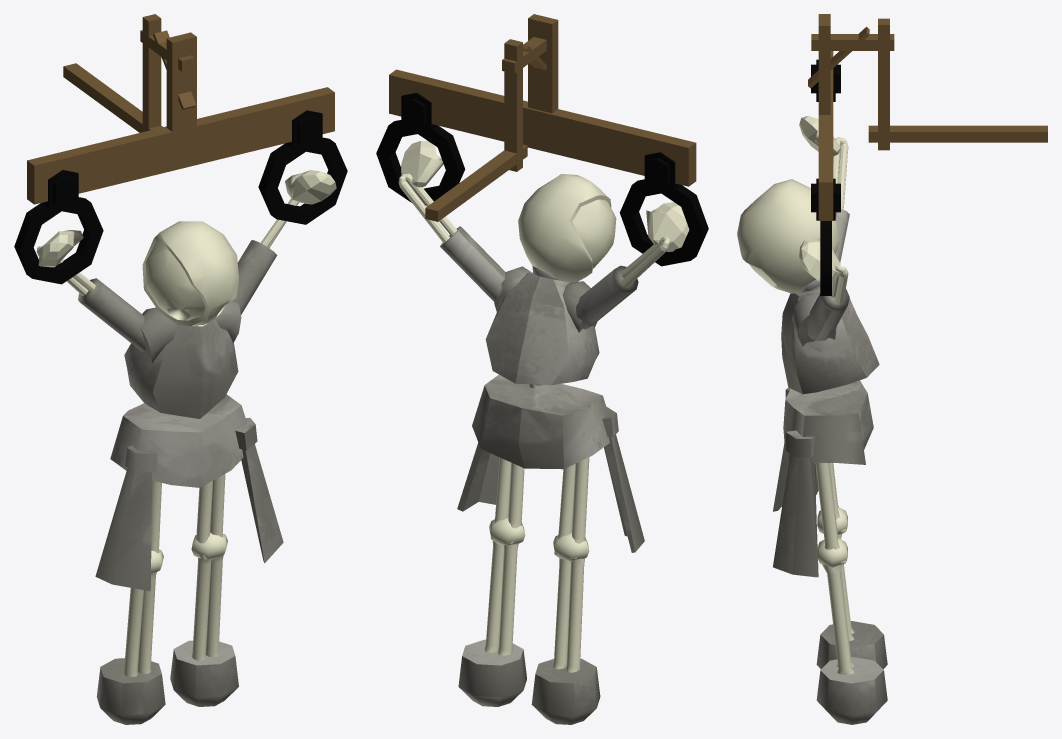
Rendered from Wooden_Prisoner_Holder.fbx.
The picture shows the model from 3 angles, left to right: view 1: azimuth 30°, elevation 25°; view 2: azimuth 150°, elevation 25°; view 3: azimuth 270°, elevation 25°; orthographic projection.
Visible parts, largest first — view 1: Armour, Holder, Bone, Rungs; view 2: Armour, Bone, Holder, Rungs; view 3: Armour, Bone, Holder, Rungs.
Part boxes in pixels (x1=…): Armour: x1=78, y1=240, x2=283, y2=724; Holder: x1=27, y1=14, x2=334, y2=204; Bone: x1=36, y1=170, x2=336, y2=676; Rungs: x1=14, y1=110, x2=347, y2=284; Armour: x1=440, y1=226, x2=644, y2=724; Bone: x1=398, y1=140, x2=689, y2=672; Holder: x1=389, y1=14, x2=696, y2=221; Rungs: x1=376, y1=92, x2=708, y2=266; Armour: x1=773, y1=209, x2=887, y2=724; Bone: x1=737, y1=115, x2=854, y2=674; Holder: x1=808, y1=14, x2=1047, y2=220; Rungs: x1=811, y1=59, x2=840, y2=295.
Size of the model in its own units: 10.01 by 19.85 by 8.24.
